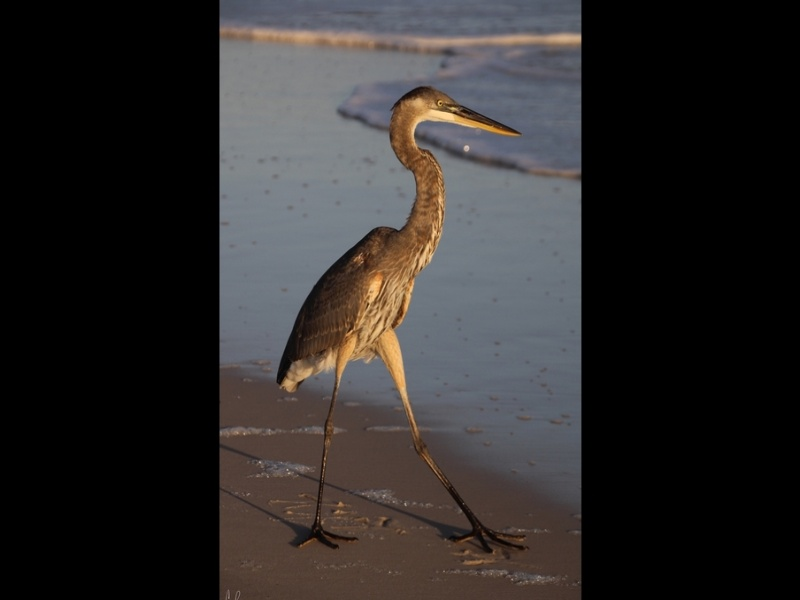heron: (276, 83, 532, 562)
